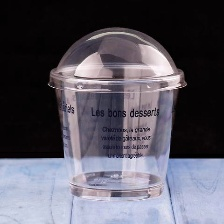glass: (42, 22, 193, 208)
